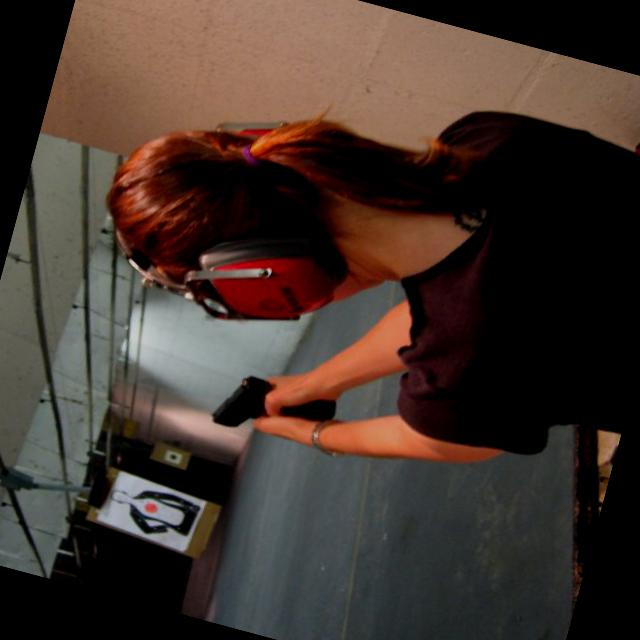handgun: (208, 368, 338, 456)
